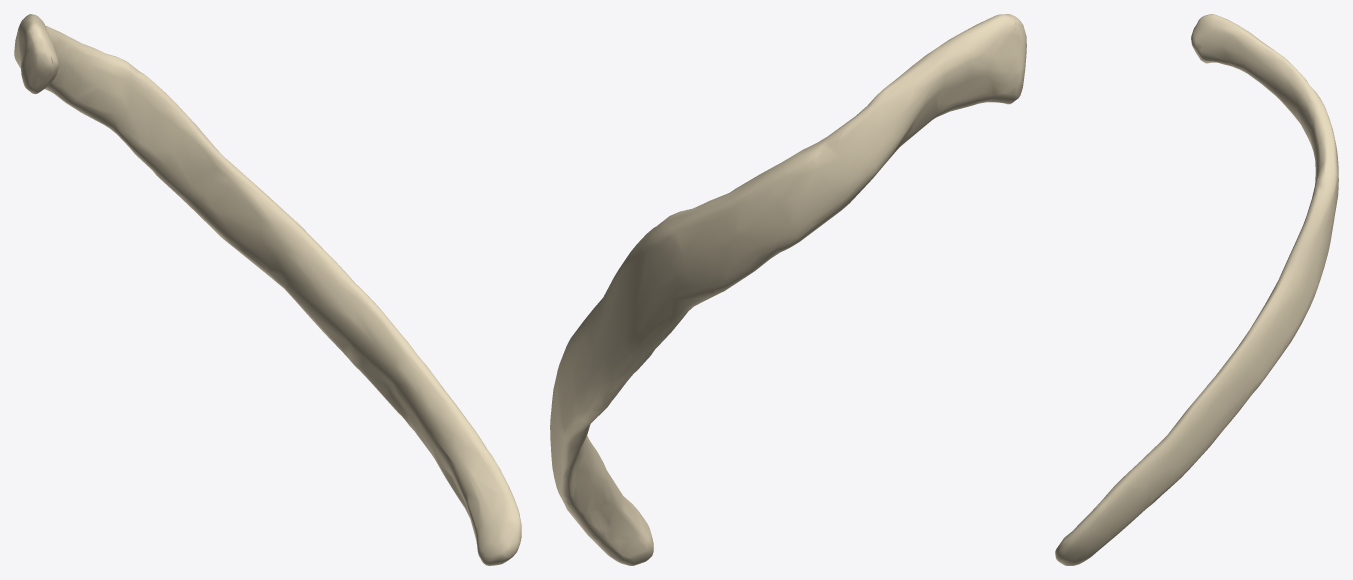
The model's file is esqueleto-eleventh-rib-l.glb.
3 renders of one model, left to right at view 1: azimuth 30°, elevation 25°; view 2: azimuth 150°, elevation 25°; view 3: azimuth 270°, elevation 25°, orthographic. The views are drawn at different scales.
Parts seen in each view (by area): view 1: Eleventh rib.l; view 2: Eleventh rib.l; view 3: Eleventh rib.l.
Boxes of the visible parts, <box> form: Eleventh rib.l: <box>14,14,521,565</box>; Eleventh rib.l: <box>550,14,1026,565</box>; Eleventh rib.l: <box>1055,14,1338,565</box>.
Bounding box in the file's own units: 0.0998 × 0.132 × 0.0812.
